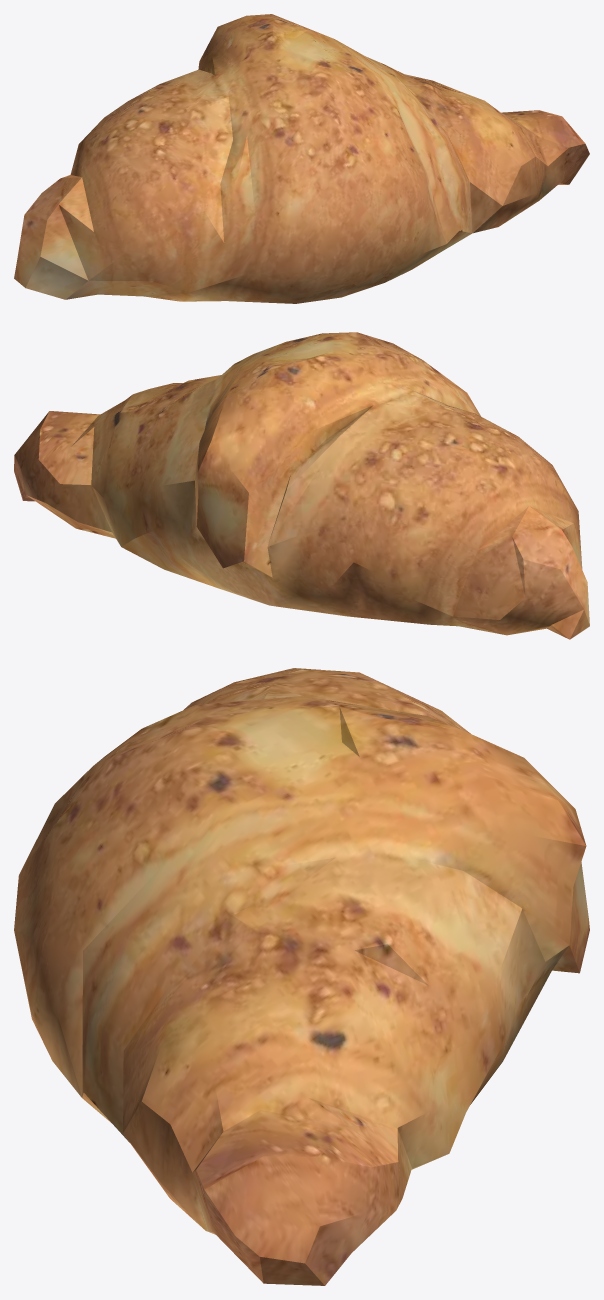
The model's file is 3DPastry001.glb.
The picture shows the model from 3 angles, top to bottom: view 1: azimuth 30°, elevation 25°; view 2: azimuth 150°, elevation 25°; view 3: azimuth 270°, elevation 25°; orthographic projection. The views are drawn at different scales.
Visible parts, largest first — view 1: 3DPastry001; view 2: 3DPastry001; view 3: 3DPastry001.
Boxes of the visible parts, bbox=[...] form: 3DPastry001: bbox=[14, 14, 589, 303]; 3DPastry001: bbox=[14, 332, 589, 639]; 3DPastry001: bbox=[14, 668, 589, 1285].
Bounding box in the file's own units: 0.1231 × 0.0453 × 0.0657.
1 material, 1 textured.
